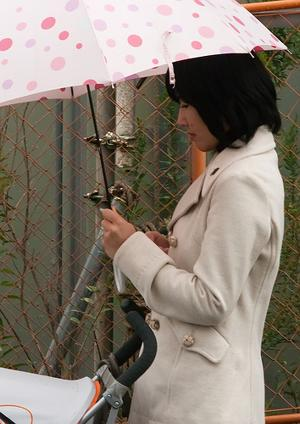person: (100, 49, 286, 424)
